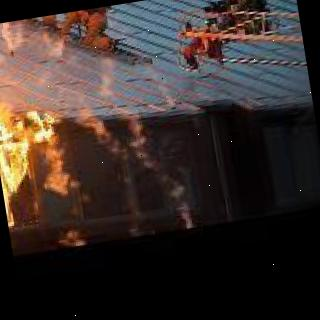fire: (0, 92, 80, 230), (126, 106, 196, 234), (68, 78, 130, 172), (88, 48, 125, 112), (145, 61, 182, 112), (34, 23, 70, 68), (0, 19, 28, 60)
